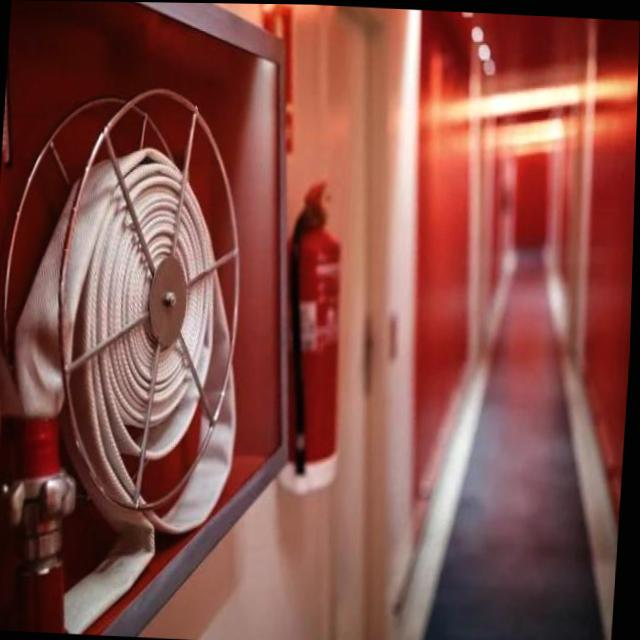FireExtinguisher: (266, 172, 362, 498)
